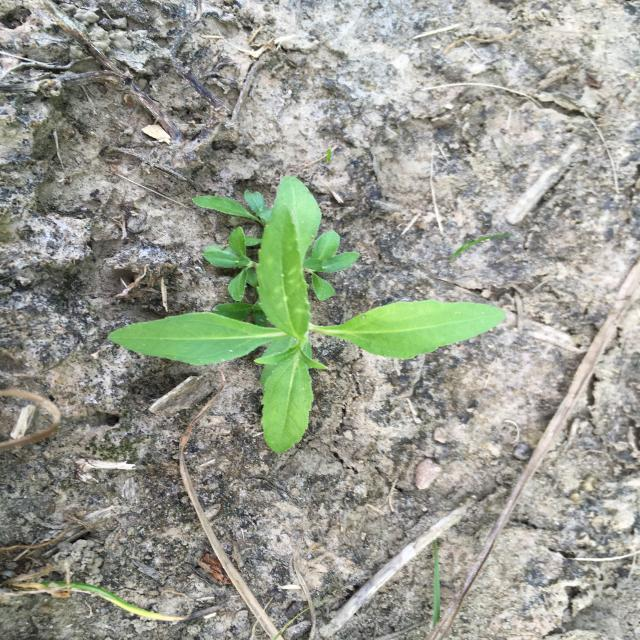Eclipta: (107, 176, 507, 454)
